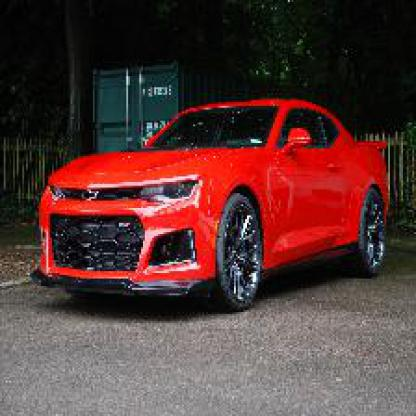not_emergency: (19, 58, 384, 338)
